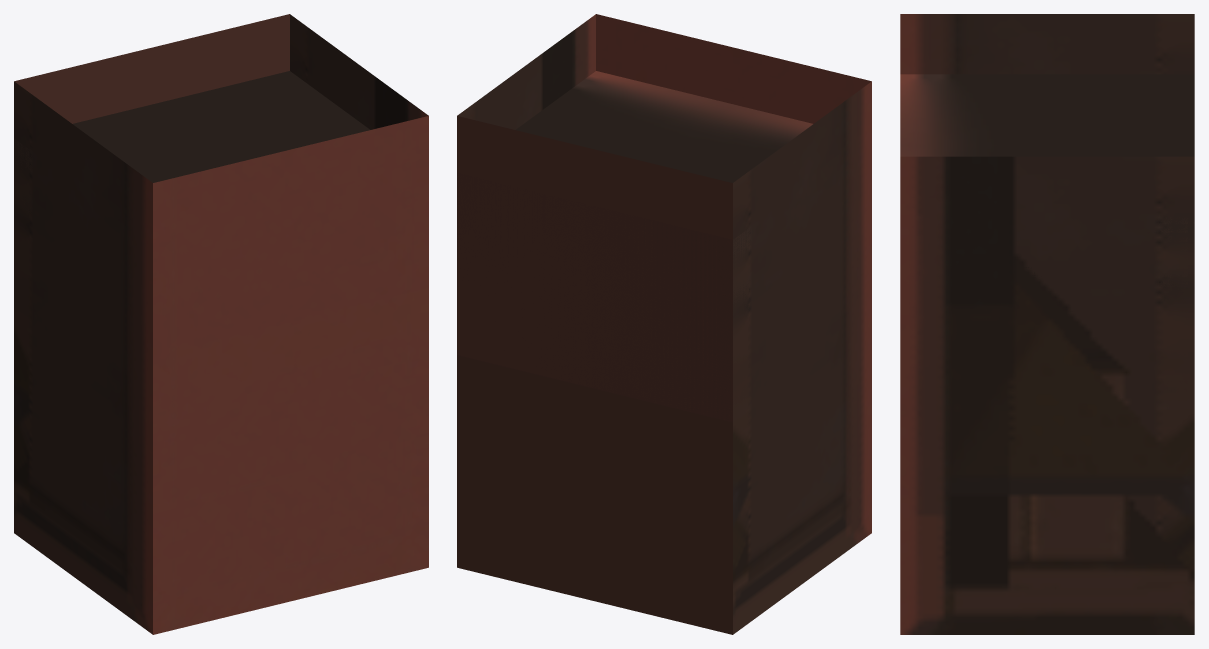
File: section-1.obj
3 views of the same model, side by side, from view 1: azimuth 30°, elevation 25°; view 2: azimuth 150°, elevation 25°; view 3: azimuth 270°, elevation 25° (orthographic). The views are drawn at different scales.
Bounding box in the file's own units: 0.95 × 1.49 × 0.83.
1 material, 1 textured.
